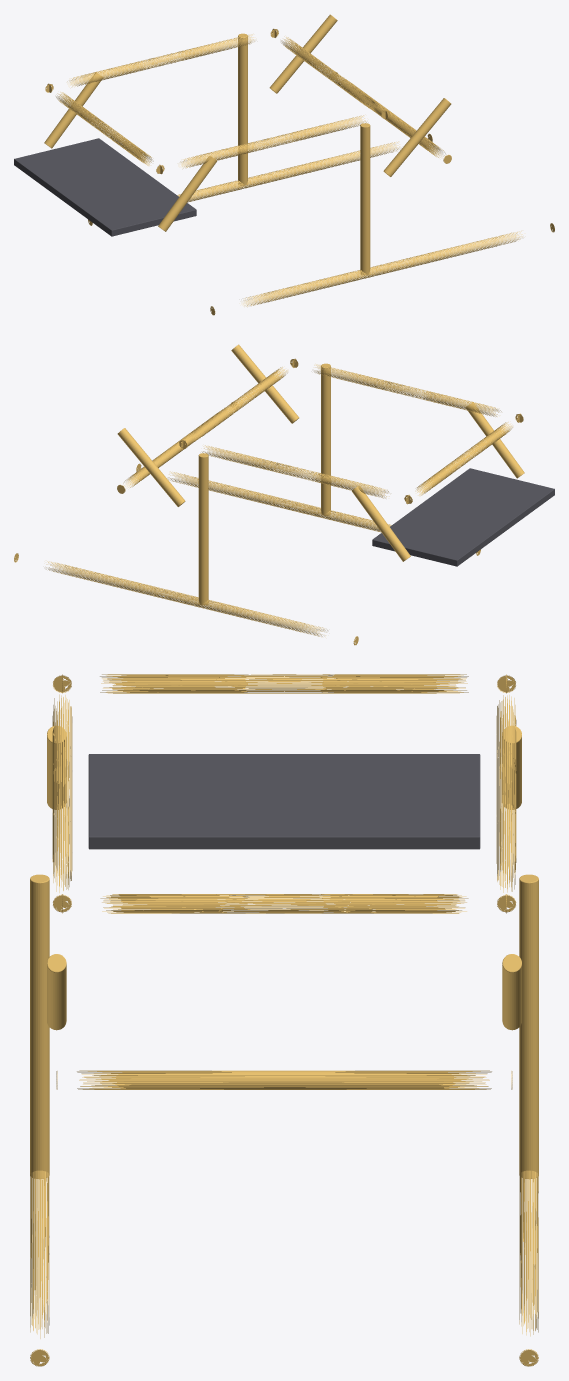
The model's file is body-framework.glb.
3 views of the same model, one above another, from view 1: azimuth 30°, elevation 25°; view 2: azimuth 150°, elevation 25°; view 3: azimuth 270°, elevation 25° (orthographic). The views are drawn at different scales.
Parts seen in each view (by area): view 1: Trunk_Aperture_Frame, Body_Sill_R, Body_Sill_L, Roof_Rail_L, Roof_Rail_R, B_Pillar_R, B_Pillar_L, Roof_Header_Front, Roof_Header_Rear, A_Pillar_R, C_Pillar_R, Cowl_Bar_Front (+2 smaller); view 2: Trunk_Aperture_Frame, Body_Sill_L, Body_Sill_R, Roof_Rail_R, Roof_Rail_L, B_Pillar_L, B_Pillar_R, Roof_Header_Front, Roof_Header_Rear, A_Pillar_L, Cowl_Bar_Front, C_Pillar_L (+2 smaller); view 3: Trunk_Aperture_Frame, Cowl_Bar_Front, Roof_Header_Rear, Roof_Header_Front, B_Pillar_R, B_Pillar_L, Roof_Rail_R, Roof_Rail_L, Body_Sill_R, Body_Sill_L, A_Pillar_L, A_Pillar_R (+2 smaller).
Boxes of the visible parts, <box> form: Trunk_Aperture_Frame: <box>14,138,196,236</box>; Body_Sill_R: <box>210,223,554,315</box>; Body_Sill_L: <box>88,133,432,225</box>; Roof_Rail_L: <box>47,28,276,92</box>; Roof_Rail_R: <box>158,110,387,174</box>; B_Pillar_R: <box>360,123,370,275</box>; B_Pillar_L: <box>238,33,247,185</box>; Roof_Header_Front: <box>270,29,389,118</box>; Roof_Header_Rear: <box>45,84,164,173</box>; A_Pillar_R: <box>383,98,451,176</box>; C_Pillar_R: <box>158,156,216,231</box>; Cowl_Bar_Front: <box>330,72,451,163</box>; Trunk_Aperture_Frame: <box>372,468,554,566</box>; Body_Sill_L: <box>14,553,358,645</box>; Body_Sill_R: <box>136,463,480,555</box>; Roof_Rail_R: <box>292,358,521,422</box>; Roof_Rail_L: <box>181,440,410,504</box>; B_Pillar_L: <box>198,453,208,605</box>; B_Pillar_R: <box>321,363,330,515</box>; Roof_Header_Front: <box>179,359,298,448</box>; Roof_Header_Rear: <box>404,414,523,503</box>; A_Pillar_L: <box>117,428,185,506</box>; Cowl_Bar_Front: <box>117,402,236,493</box>; C_Pillar_L: <box>352,486,410,561</box>; Trunk_Aperture_Frame: <box>88,754,480,849</box>; Cowl_Bar_Front: <box>56,1070,512,1089</box>; Roof_Header_Rear: <box>62,674,506,693</box>; Roof_Header_Front: <box>62,894,506,913</box>; B_Pillar_R: <box>30,874,49,1178</box>; B_Pillar_L: <box>519,874,538,1178</box>; Roof_Rail_R: <box>52,675,72,912</box>; Roof_Rail_L: <box>496,675,516,912</box>; Body_Sill_R: <box>30,1170,49,1366</box>; Body_Sill_L: <box>519,1170,538,1366</box>; A_Pillar_L: <box>502,954,521,1030</box>; A_Pillar_R: <box>47,954,66,1030</box>.
Bounding box in the file's own units: 3.52 × 1.23 × 1.81.
